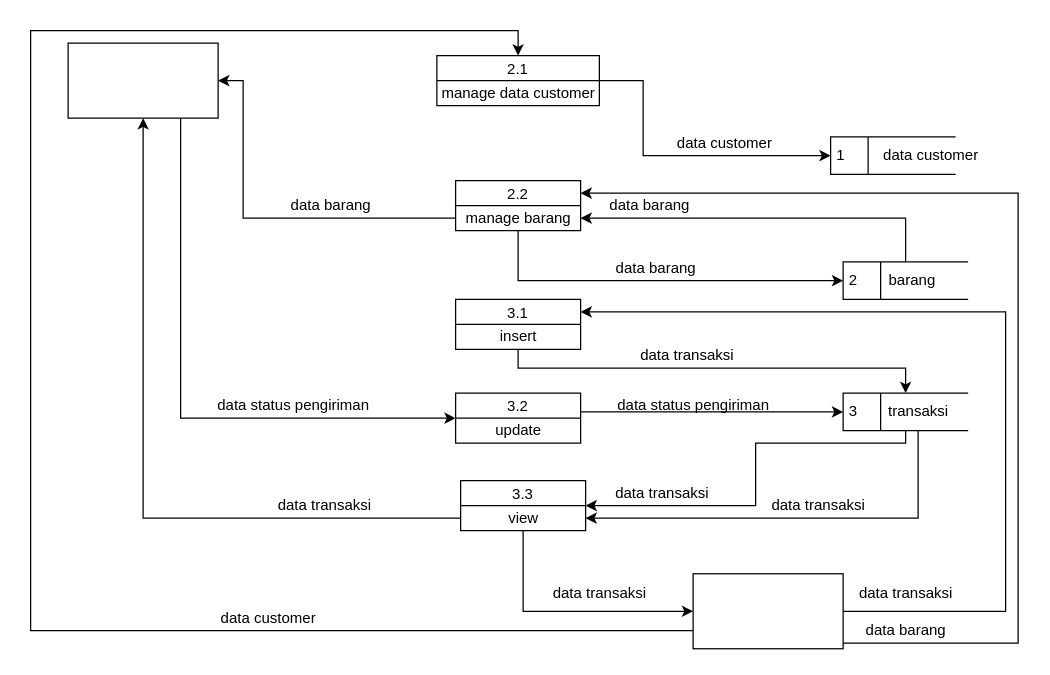
The diagram is 1050 pixels wide and 675 high, and some of its shapes have lost their labels. Here are the shapes that lost their labels. From the top down, the box of each, then its label:
(67, 42, 218, 118): kurir
(692, 572, 843, 649): administrasi
